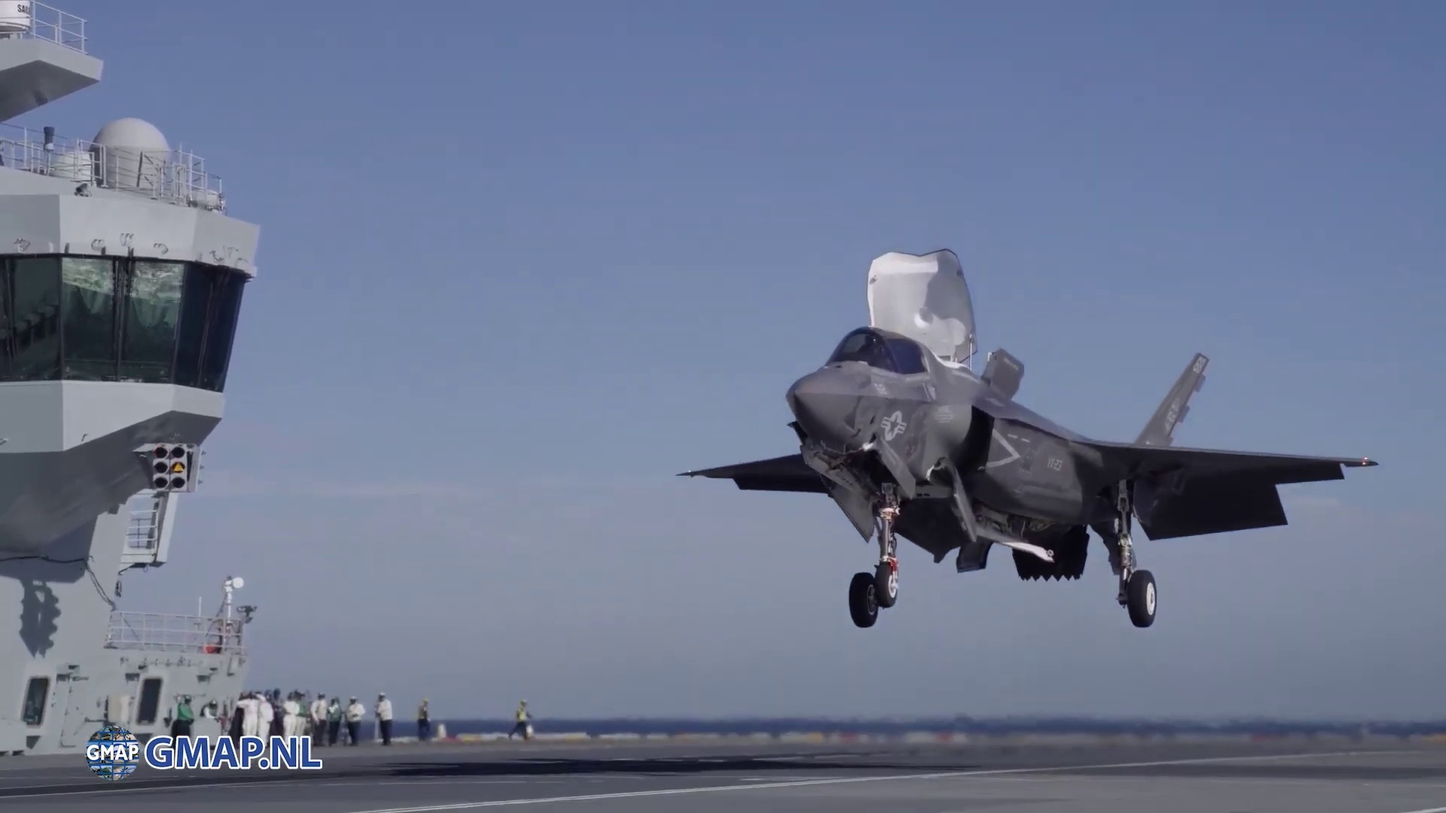F35: (668, 245, 1386, 632)
